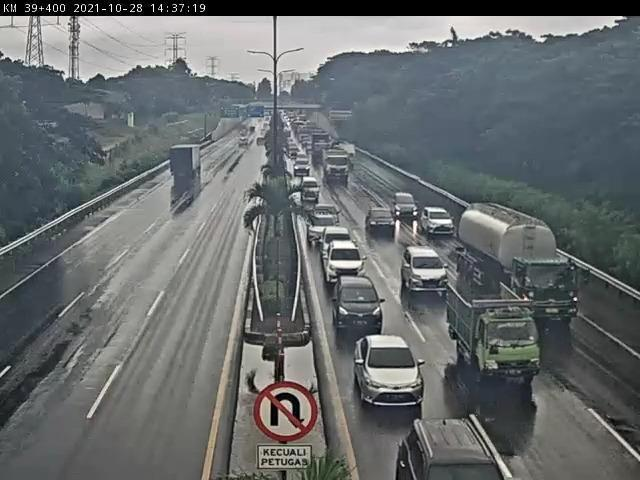truck: (451, 196, 588, 342)
